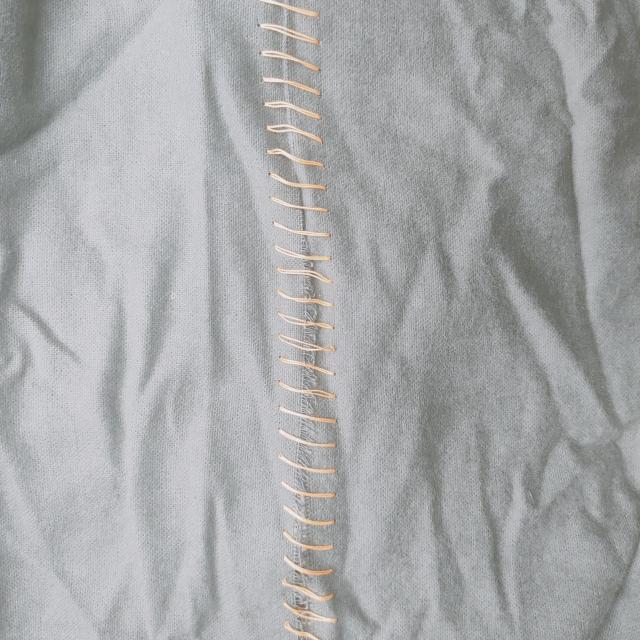gray stitch: (257, 0, 340, 640)
